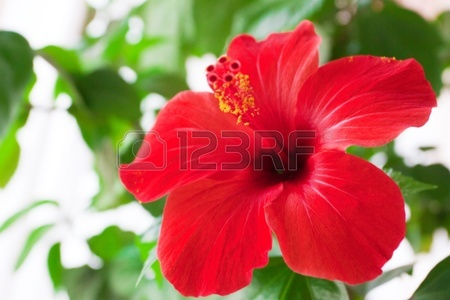Hibiscus: (124, 28, 436, 294)
